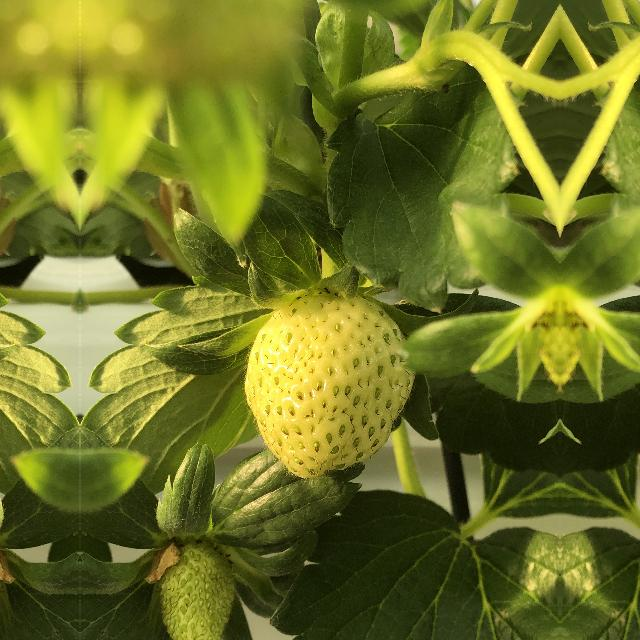Health_25: (237, 283, 421, 473), (156, 544, 240, 640)
